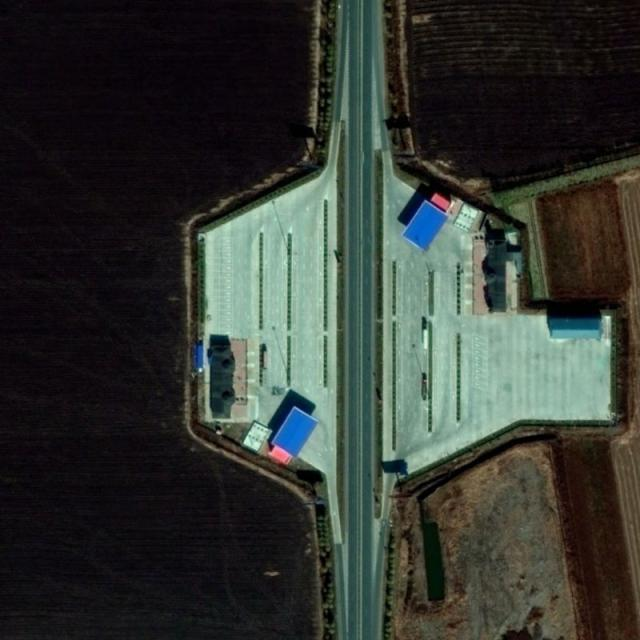vehicle: (422, 323, 429, 350), (421, 378, 427, 401)
